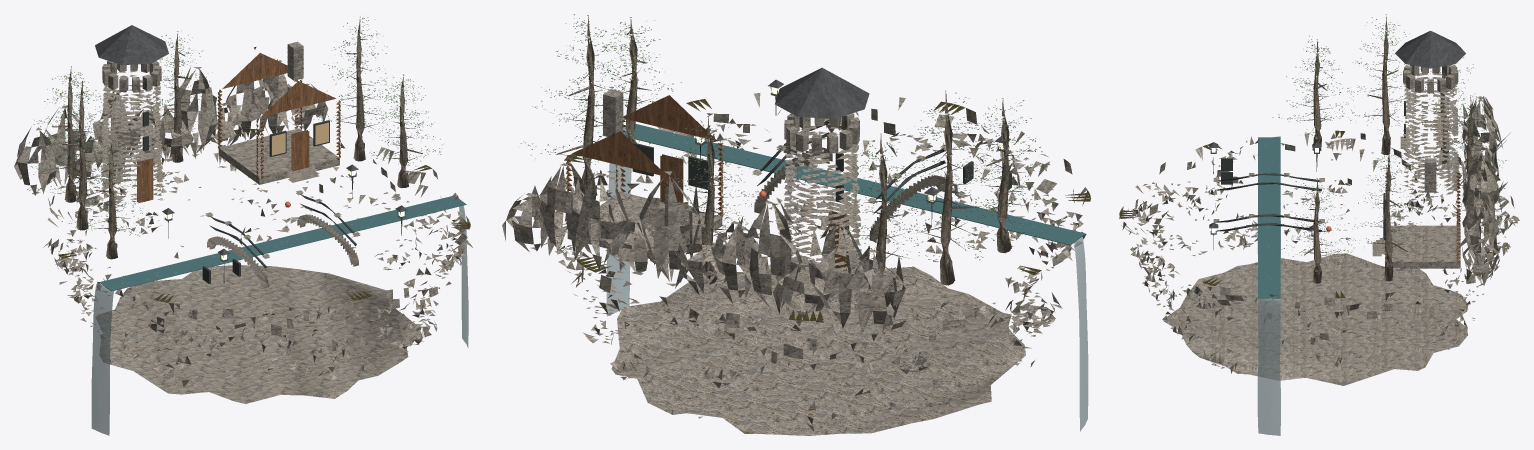
File: camp.glb
3 renders of one model, left to right at view 1: azimuth 30°, elevation 25°; view 2: azimuth 150°, elevation 25°; view 3: azimuth 270°, elevation 25°, orthographic. The views are drawn at different scales.
Parts seen in each view (by area): view 1: camp_Weathered_mineral_stone, camp_Natural_fissured_bark, camp_Aged_oiled_timber, camp_Deep_stream, camp_waterfall_Flowing_silver_water_-1, camp_Weathered_slate, camp_Forged_iron, camp_Foliage_1, camp_Foliage_2, camp_Foliage_0, camp_waterfall_Flowing_silver_water_1, camp_Natural_moss_and_soil (+1 smaller); view 2: camp_Weathered_mineral_stone, camp_Natural_fissured_bark, camp_Deep_stream, camp_Aged_oiled_timber, camp_Weathered_slate, camp_Forged_iron, camp_waterfall_Flowing_silver_water_-1, camp_Foliage_2, camp_Foliage_1, camp_Foliage_0, camp_waterfall_Flowing_silver_water_1, camp_Natural_moss_and_soil; view 3: camp_Weathered_mineral_stone, camp_Natural_fissured_bark, camp_Deep_stream, camp_waterfall_Flowing_silver_water_1, camp_Weathered_slate, camp_Forged_iron, camp_Foliage_2, camp_Foliage_0, camp_Foliage_1, camp_Natural_moss_and_soil.
Boxes of the visible parts, box(x1,y1,x2,y2) form: camp_Weathered_mineral_stone: box(14, 41, 472, 403); camp_Natural_fissured_bark: box(45, 16, 422, 259); camp_Aged_oiled_timber: box(137, 53, 340, 203); camp_Deep_stream: box(99, 196, 466, 291); camp_waterfall_Flowing_silver_water_-1: box(91, 283, 114, 435); camp_Weathered_slate: box(95, 25, 407, 255); camp_Forged_iron: box(142, 111, 405, 283); camp_Foliage_1: box(17, 19, 442, 235); camp_Foliage_2: box(29, 17, 440, 235); camp_Foliage_0: box(21, 17, 439, 236); camp_waterfall_Flowing_silver_water_1: box(458, 197, 468, 347); camp_Natural_moss_and_soil: box(58, 129, 470, 302); camp_Weathered_mineral_stone: box(502, 89, 1088, 435); camp_Natural_fissured_bark: box(555, 15, 1026, 306); camp_Deep_stream: box(623, 124, 1085, 245); camp_Aged_oiled_timber: box(566, 95, 849, 270); camp_Weathered_slate: box(602, 67, 1010, 195); camp_Forged_iron: box(632, 87, 1011, 226); camp_waterfall_Flowing_silver_water_-1: box(1073, 237, 1088, 431); camp_Foliage_2: box(525, 21, 1050, 284); camp_Foliage_1: box(530, 14, 1053, 283); camp_Foliage_0: box(520, 18, 1054, 280); camp_waterfall_Flowing_silver_water_1: box(606, 163, 631, 316); camp_Natural_moss_and_soil: box(564, 99, 1090, 320); camp_Weathered_mineral_stone: box(1119, 65, 1519, 385); camp_Natural_fissured_bark: box(1296, 14, 1483, 283); camp_Deep_stream: box(1258, 137, 1280, 298); camp_waterfall_Flowing_silver_water_1: box(1257, 298, 1280, 435); camp_Weathered_slate: box(1209, 30, 1465, 230); camp_Forged_iron: box(1210, 101, 1405, 249); camp_Foliage_2: box(1278, 23, 1503, 273); camp_Foliage_0: box(1272, 17, 1506, 269); camp_Foliage_1: box(1278, 19, 1504, 269); camp_Natural_moss_and_soil: box(1119, 130, 1500, 298).
Bounding box in the file's own units: 15.32 × 12.2 × 15.16.
Materials: 18 (5 with a texture image).
